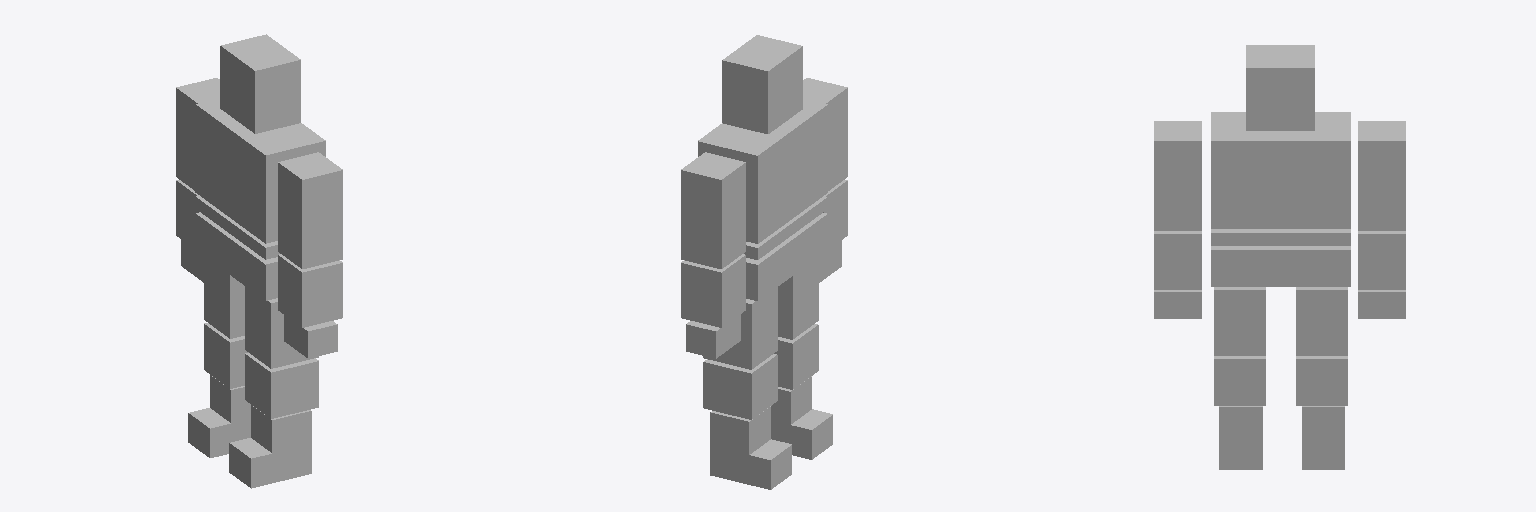
File: POne0.obj
3 views of the same model, side by side, from view 1: azimuth 30°, elevation 25°; view 2: azimuth 150°, elevation 25°; view 3: azimuth 270°, elevation 25° (orthographic).
Parts seen in each view (by area): view 1: pasted__pasted__pCube3 pasted__group3 group4, pasted__pCube4 group6, pCube4, pasted__pCube1 group5, group8 pasted__pasted__pCube4 pasted__group6, pasted__pCube2 group1, pCube3, pCube1, group2 pasted__pasted__pCube2 pasted__group1, pasted__pCube2 group2, pasted__pCube4 group7, pCube2 (+4 smaller); view 2: pasted__pasted__pCube3 pasted__group3 group4, pasted__pCube4 group7, pCube4, pCube1, pasted__pCube4 group8, pCube2, pasted__pCube1 group5, pCube3, pasted__pCube2 group2, pasted__pCube4 group6, group2 pasted__pasted__pCube2 pasted__group1, pasted__pCube2 group1 (+4 smaller); view 3: pasted__pasted__pCube3 pasted__group3 group4, pCube4, pCube3, pasted__pCube4 group6, pasted__pCube4 group7, pasted__pCube2 group2, group2 pasted__pasted__pCube2 pasted__group1, pasted__pCube4 group8, group8 pasted__pasted__pCube4 pasted__group6, pasted__pCube1 group5, pCube1, pCube2 (+4 smaller).
Boxes of the visible parts, box(x1,y1,x2,y2) form: pasted__pasted__pCube3 pasted__group3 group4: box(195, 98, 325, 243); pasted__pCube4 group6: box(278, 152, 342, 268); pCube4: box(220, 34, 300, 133); pasted__pCube1 group5: box(229, 405, 311, 488); group8 pasted__pasted__pCube4 pasted__group6: box(278, 254, 342, 327); pasted__pCube2 group1: box(245, 353, 318, 418); pCube3: box(195, 212, 277, 300); pCube1: box(188, 375, 250, 457); group2 pasted__pasted__pCube2 pasted__group1: box(245, 286, 318, 368); pasted__pCube2 group2: box(204, 256, 244, 338); pasted__pCube4 group7: box(176, 78, 219, 190); pCube2: box(204, 323, 248, 388); pasted__pasted__pCube3 pasted__group3 group4: box(698, 99, 827, 243); pasted__pCube4 group7: box(681, 152, 745, 268); pCube4: box(722, 35, 802, 133); pCube1: box(710, 406, 791, 489); pasted__pCube4 group8: box(681, 254, 745, 327); pCube2: box(703, 354, 777, 419); pasted__pCube1 group5: box(771, 376, 832, 459); pCube3: box(746, 213, 827, 300); pasted__pCube2 group2: box(703, 287, 777, 369); pasted__pCube4 group6: box(803, 78, 847, 190); group2 pasted__pasted__pCube2 pasted__group1: box(778, 257, 818, 339); pasted__pCube2 group1: box(774, 324, 818, 389); pasted__pasted__pCube3 pasted__group3 group4: box(1211, 112, 1350, 228); pCube4: box(1246, 45, 1314, 130); pCube3: box(1211, 246, 1350, 286); pasted__pCube4 group6: box(1154, 121, 1201, 230); pasted__pCube4 group7: box(1358, 121, 1405, 230); pasted__pCube2 group2: box(1296, 287, 1347, 355); group2 pasted__pasted__pCube2 pasted__group1: box(1214, 287, 1265, 355); pasted__pCube4 group8: box(1358, 231, 1405, 289); group8 pasted__pasted__pCube4 pasted__group6: box(1154, 231, 1201, 289); pasted__pCube1 group5: box(1219, 406, 1262, 469); pCube1: box(1302, 406, 1344, 469); pCube2: box(1296, 356, 1347, 405).
Bounding box in the file's own units: 1.17 × 6.39 × 3.63.